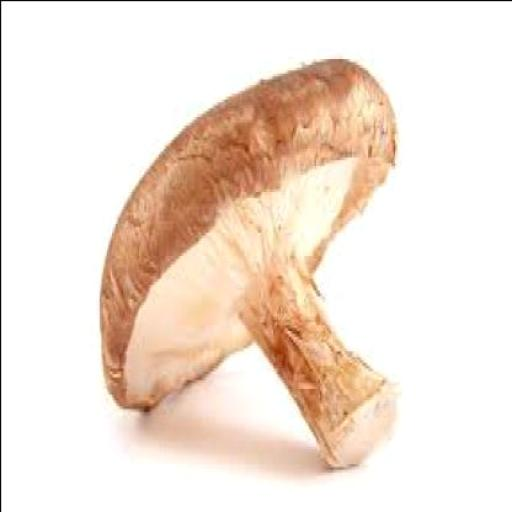biodegradable: (98, 52, 396, 462)
